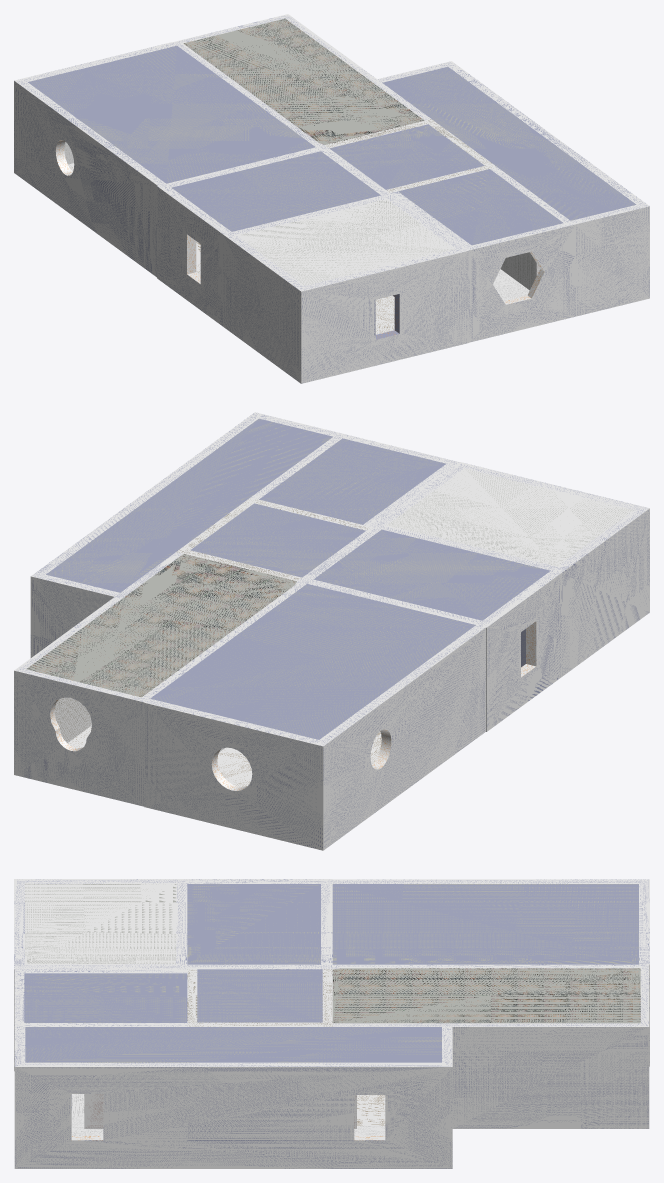
The model's file is Locate.fbx.
3 views of the same model, one above another, from view 1: azimuth 30°, elevation 25°; view 2: azimuth 150°, elevation 25°; view 3: azimuth 270°, elevation 25° (orthographic). The views are drawn at different scales.
Parts seen in each view (by area): view 1: Model; view 2: Model; view 3: Model.
Boxes of the visible parts, <box> form: Model: <box>14,14,649,383</box>; Model: <box>14,412,649,850</box>; Model: <box>14,879,649,1168</box>.
Size of the model in its own units: 12670 by 3200 by 18110.
